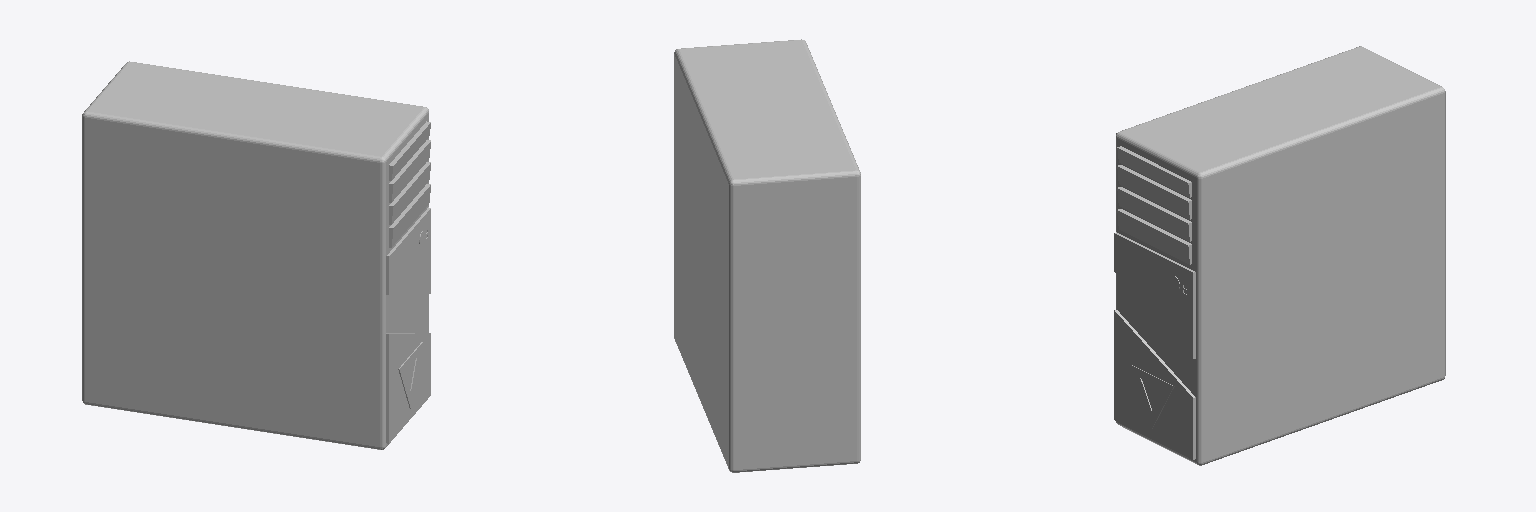
3 views of the same model, side by side, from view 1: azimuth 30°, elevation 25°; view 2: azimuth 150°, elevation 25°; view 3: azimuth 270°, elevation 25° (orthographic).
Parts seen in each view (by area): view 1: PC; view 2: PC; view 3: PC.
Part boxes in pixels (bbox=[...]): PC: bbox=[82, 61, 430, 449]; PC: bbox=[674, 39, 860, 472]; PC: bbox=[1114, 46, 1445, 465].
Size of the model in its own units: 190 by 200 by 205.